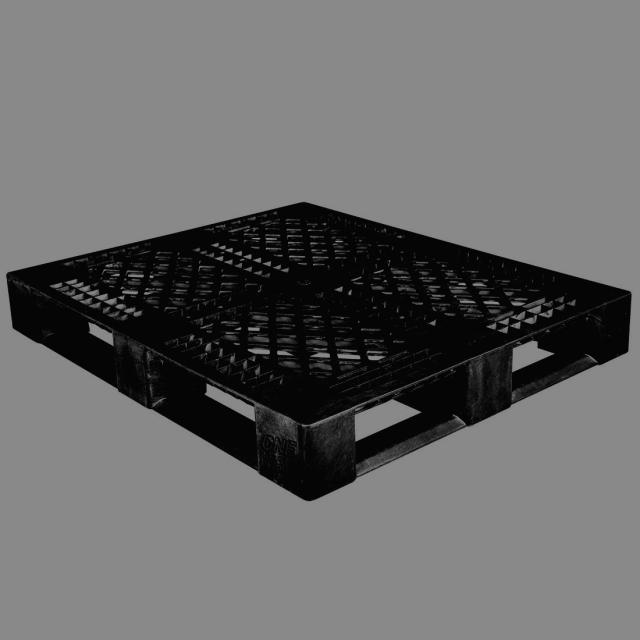non-igps: (2, 196, 636, 506)
